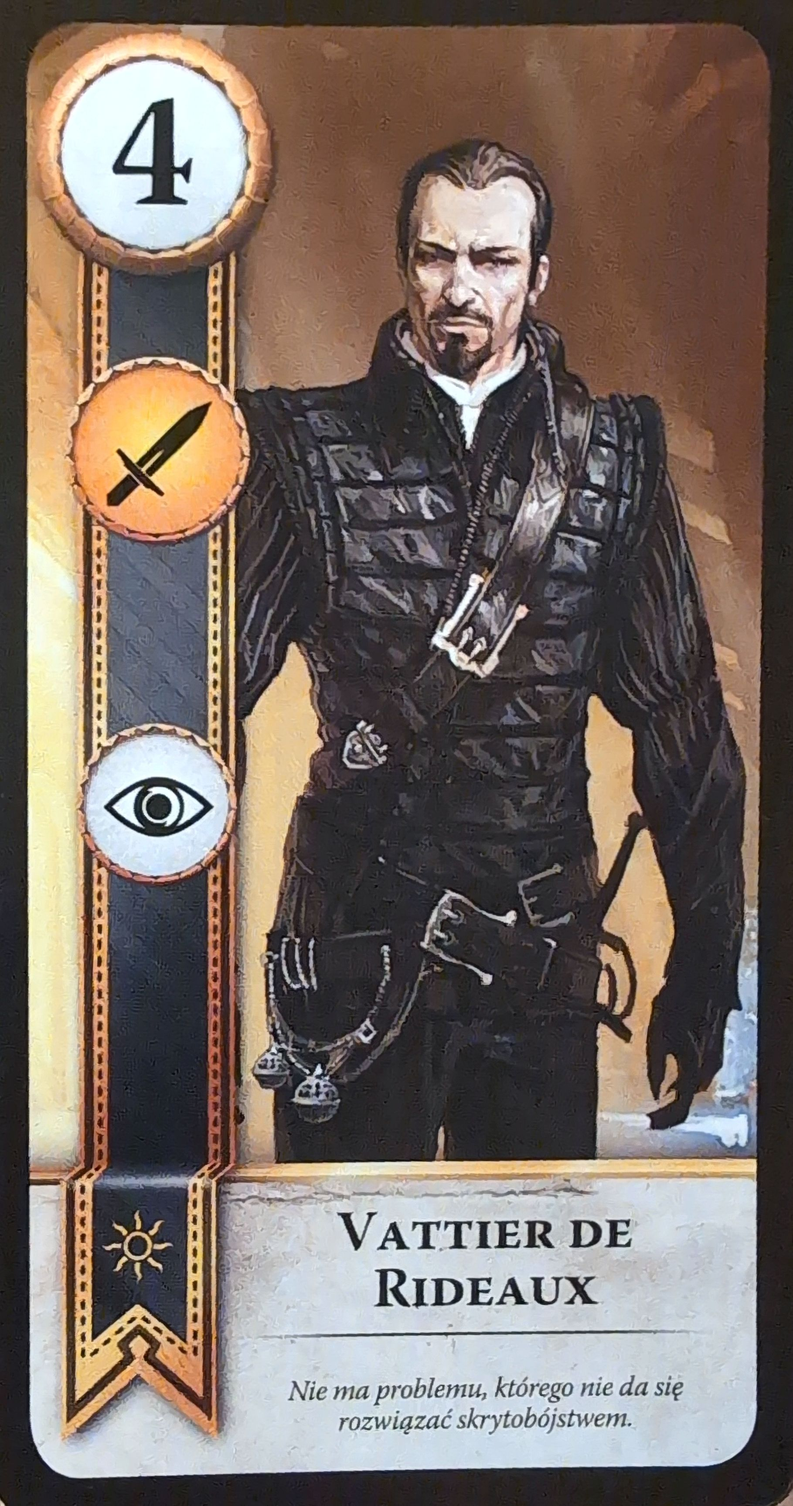4: (33, 33, 278, 276)
miecz: (63, 358, 254, 545)
szpiegostwo: (74, 724, 237, 884)
